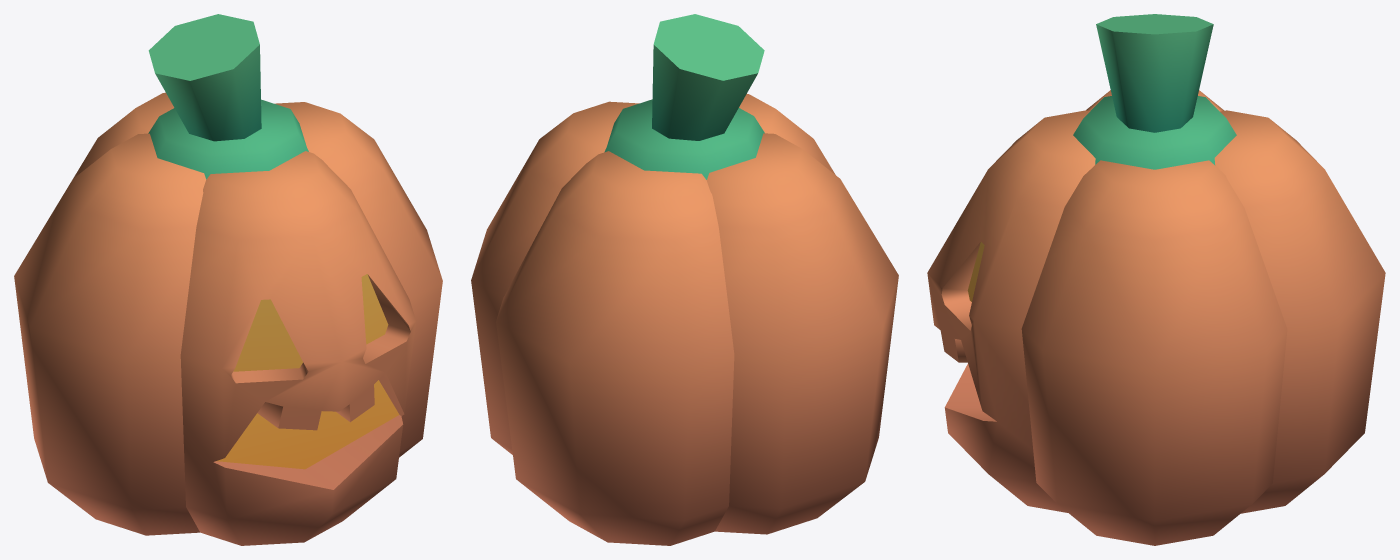
The model's file is pumpkin-tall-carved.glb.
The picture shows the model from 3 angles, left to right: view 1: azimuth 30°, elevation 25°; view 2: azimuth 150°, elevation 25°; view 3: azimuth 270°, elevation 25°; orthographic projection.
Visible parts, largest first — view 1: pumpkin-tall-carved; view 2: pumpkin-tall-carved; view 3: pumpkin-tall-carved.
Boxes of the visible parts, x1=… form: pumpkin-tall-carved: x1=14, y1=14, x2=442, y2=545; pumpkin-tall-carved: x1=471, y1=14, x2=898, y2=545; pumpkin-tall-carved: x1=927, y1=14, x2=1385, y2=545.
Size of the model in its own units: 6.51 by 7.19 by 6.51.
1 material, 1 textured.
